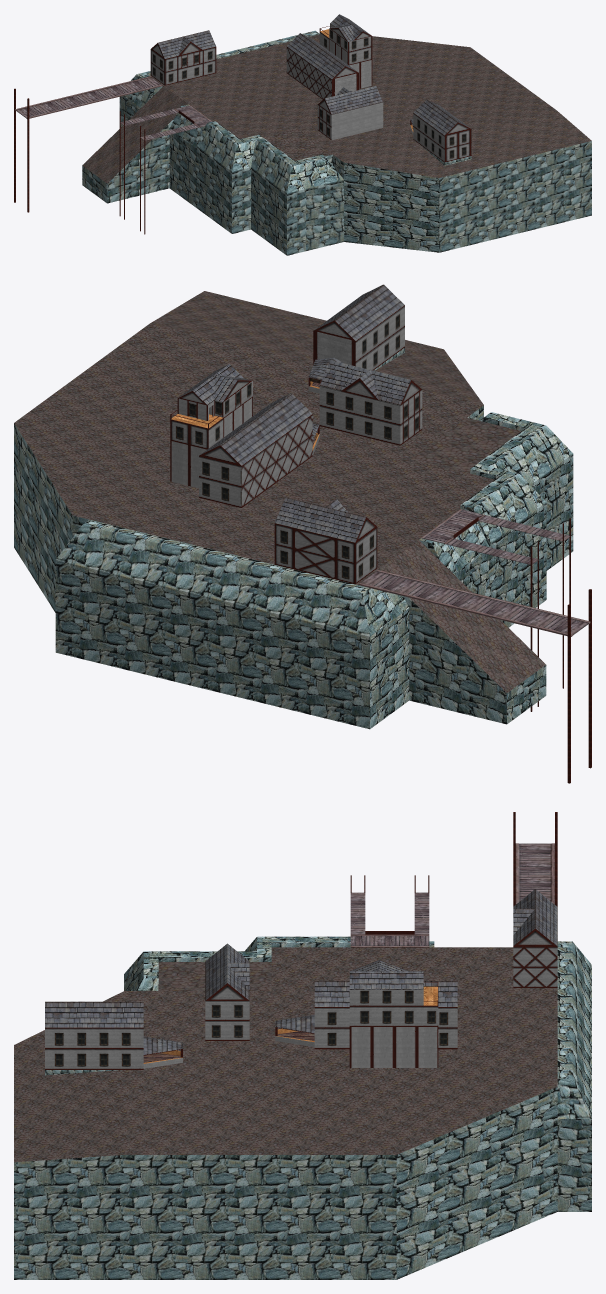
Rendered from portg.gltf.
The picture shows the model from 3 angles, top to bottom: view 1: azimuth 30°, elevation 25°; view 2: azimuth 150°, elevation 25°; view 3: azimuth 270°, elevation 25°; orthographic projection. The views are drawn at different scales.
Parts seen in each view (by area): view 1: portg; view 2: portg; view 3: portg.
Boxes of the visible parts, x1,y1,x2,y2 form: portg: (14,14,591,255); portg: (14,284,591,783); portg: (14,812,591,1279).
Bounding box in the file's own units: 168 × 59.62 × 132.
28 materials, 28 textured.
